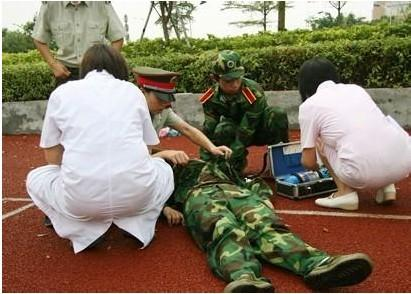fall: (152, 133, 386, 287)
